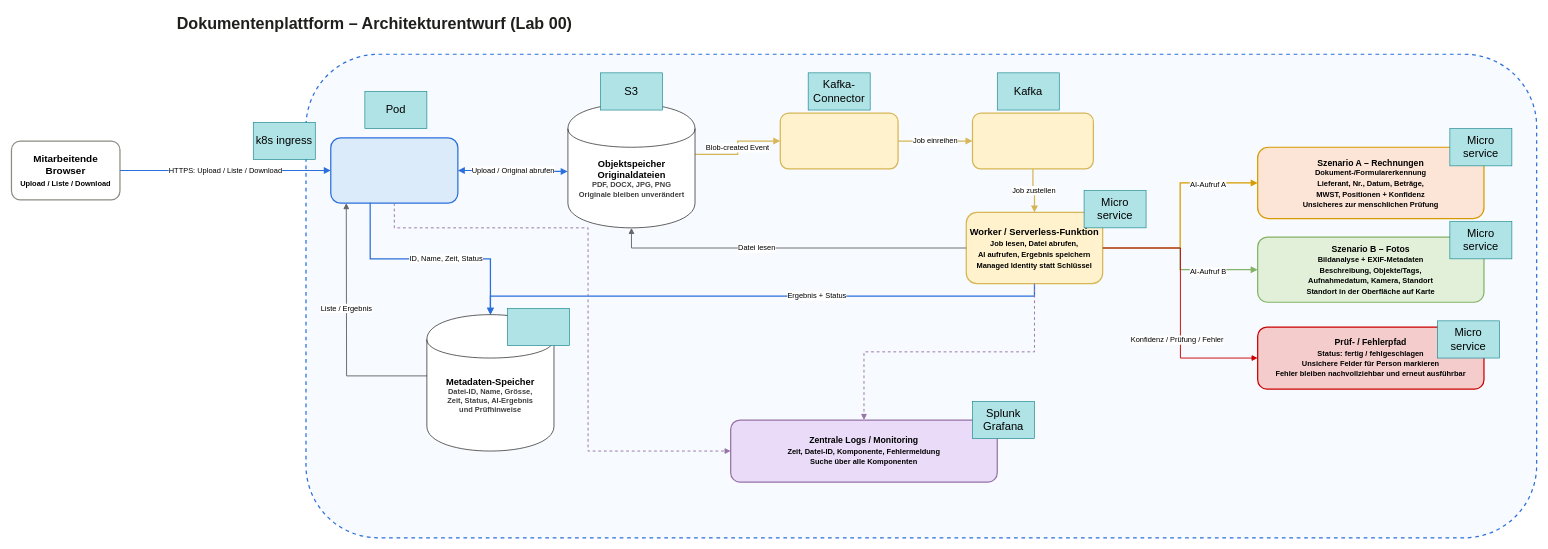
The diagram is 1548 pixels wide and 549 high, and some of its shapes have lost their labels. The shapes that lost their labels are listed below. From the top down, each one's centre as x and y in pixels, then its label:
point 838,140: Blob-Ereignis Upload löst Job aus (nicht im Upload-Pfad)
point 1033,140: Warteschlange Entkoppelt Upload und AI Retry + Dead-Letter
point 394,170: Web-App + API Dateityp / 10 MB prüfen Upload, Liste, Download
point 538,327: Postgre SQL
